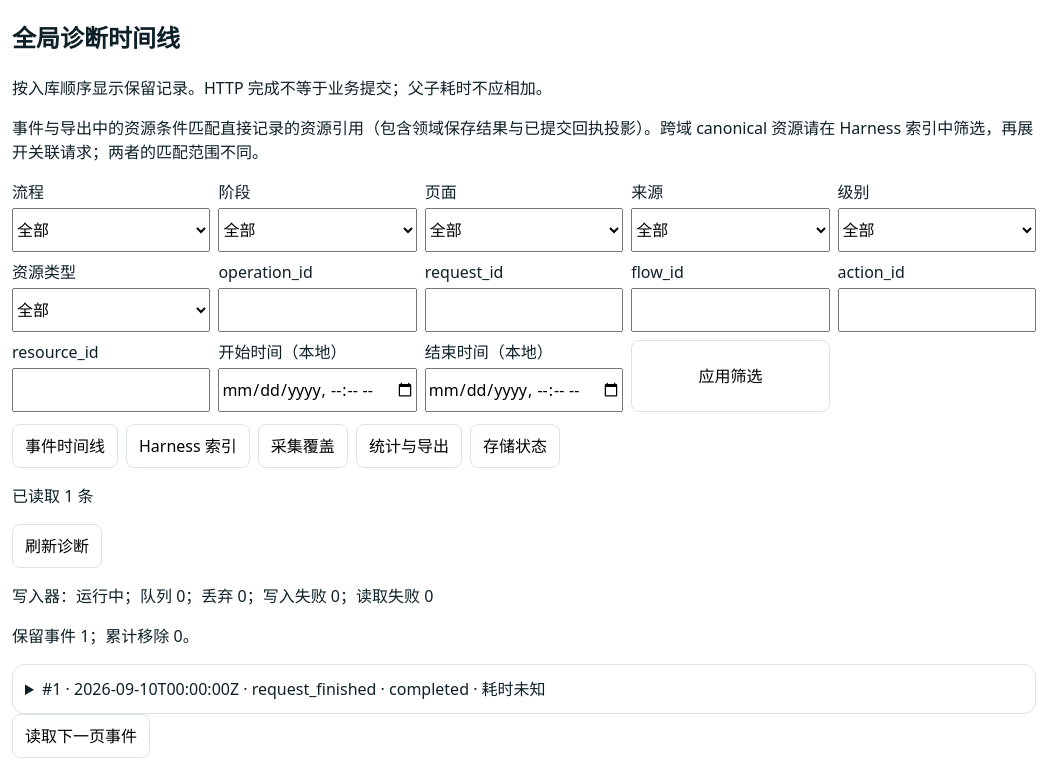
valid next pages append and query failures remain visibly distinct from empty history
What coordinates should you click on to do the following:
click the button "读取下一页事件"
I would click on:
 (81, 736)
Its box is [12,714,150,758].
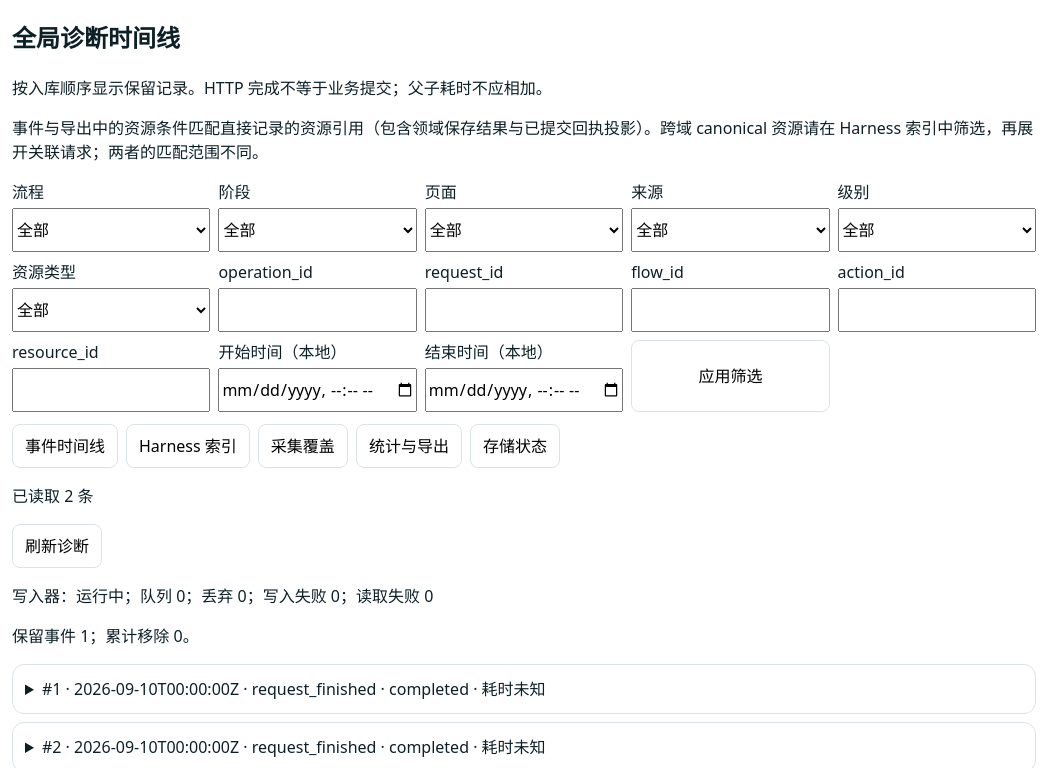
What coordinates should you click on to do the following:
click the button "刷新诊断"
I would click on:
 (57, 546)
Its box is [12,524,102,568].
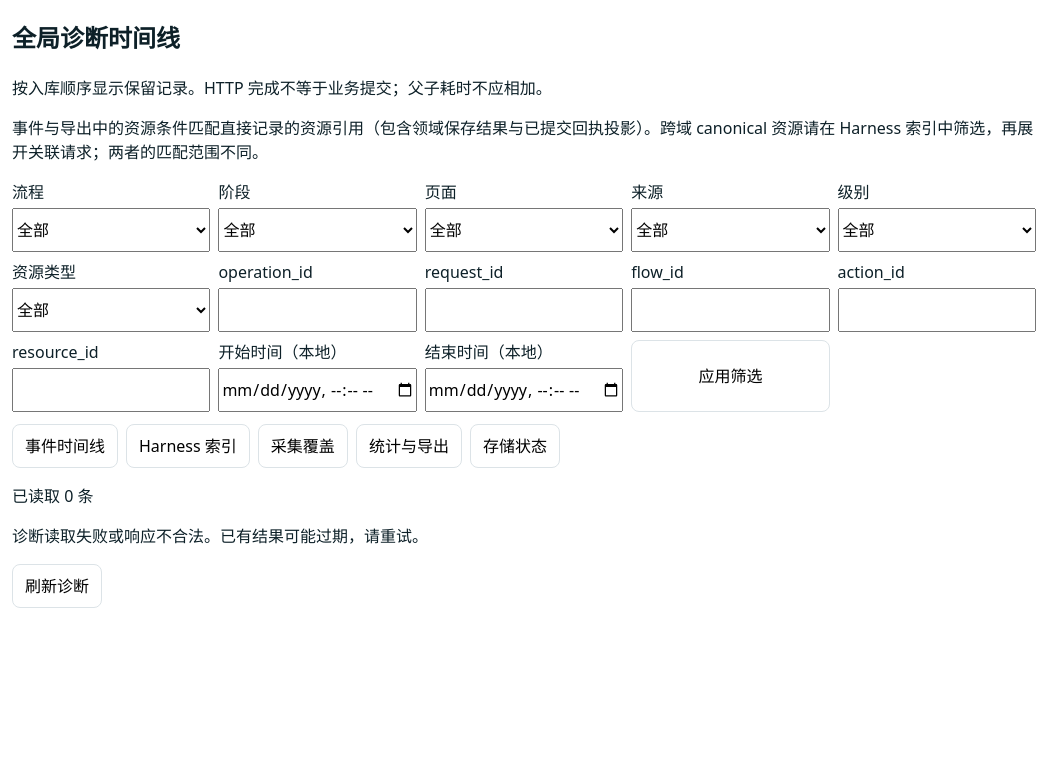
Now the message "诊断读取失败或响应不合法。已有结果可能过期，请重试。" is shown, box [12,525,428,547]
